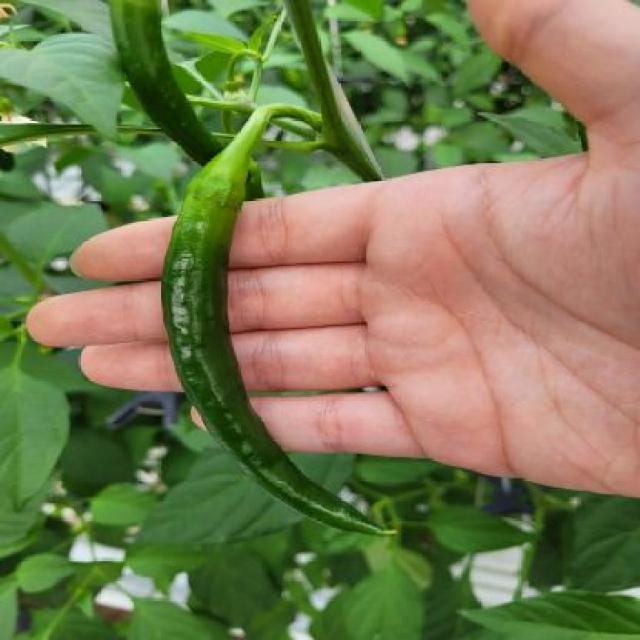green chilli: (161, 192, 397, 536)
